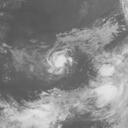cyclone: (44, 47, 75, 78)
